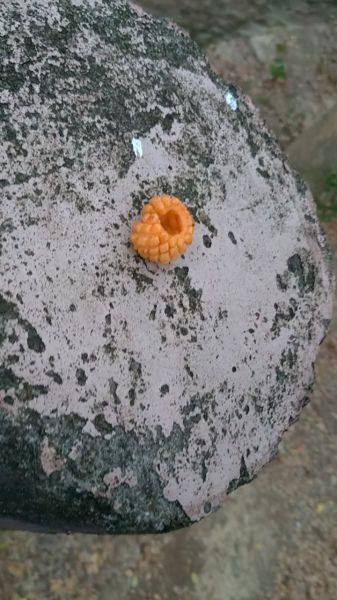eggs: (127, 191, 201, 269)
